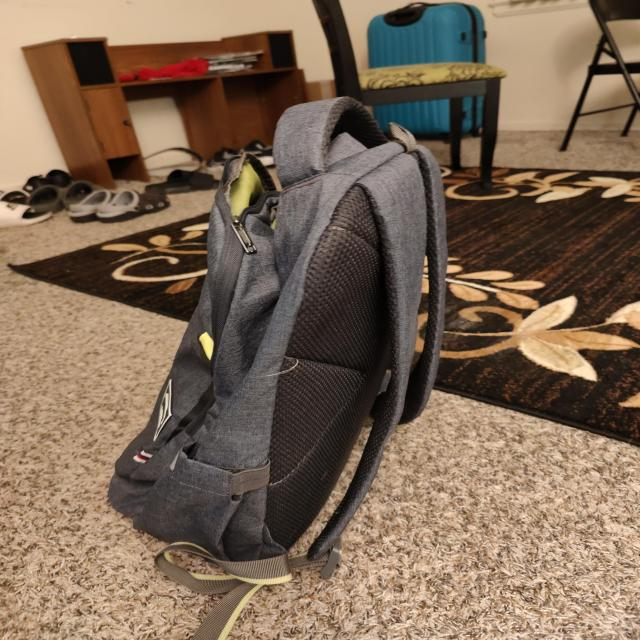bag: (149, 124, 421, 553)
